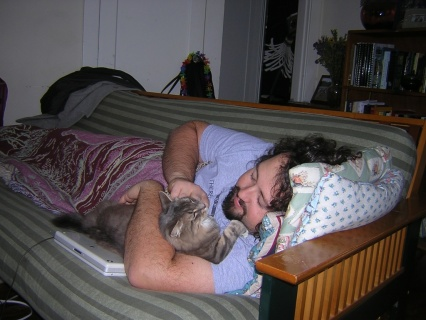Cat: (48, 189, 250, 263)
